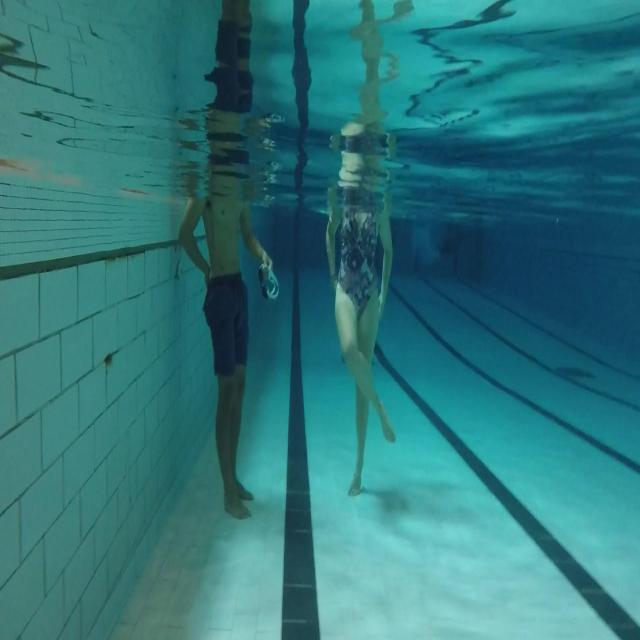human: (176, 1, 278, 520), (325, 120, 397, 497)
